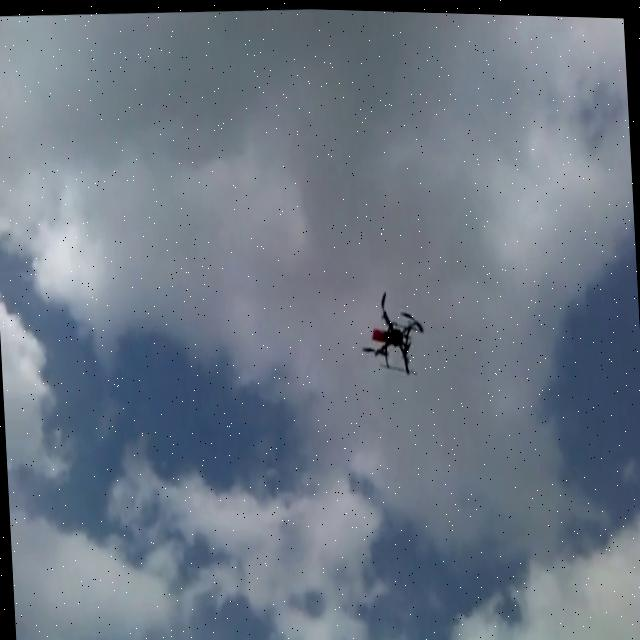drone: (356, 282, 424, 376)
